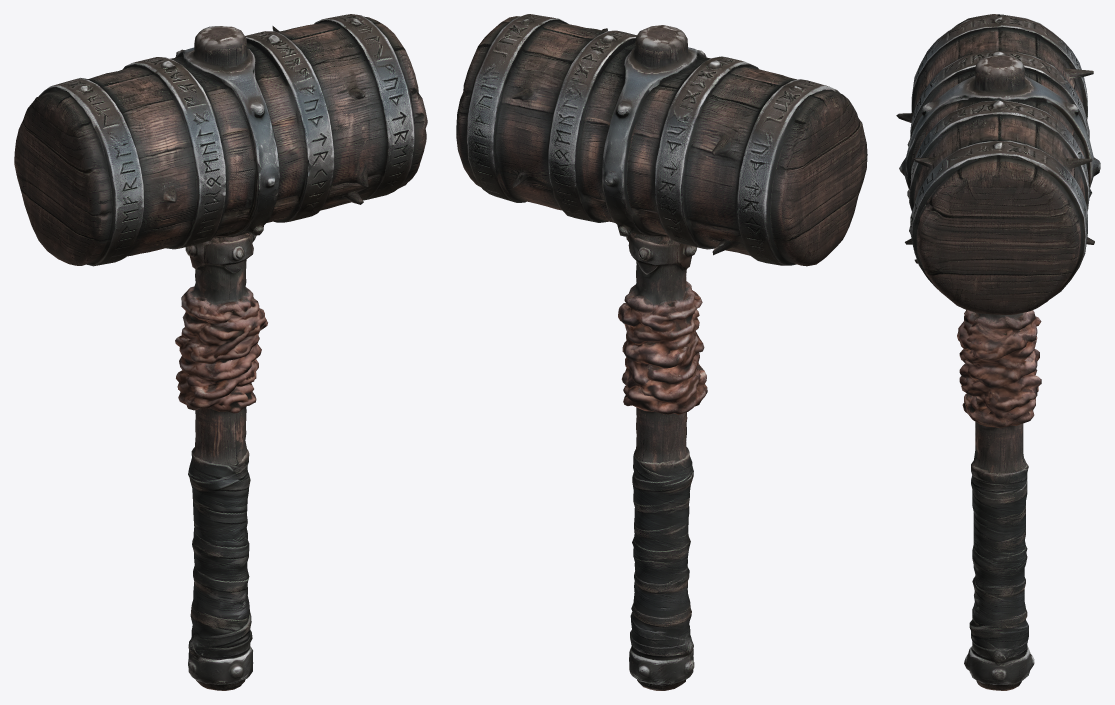
Rendered from Meshy_AI_TrollHammer_0331035215_texture.fbx.
3 renders of one model, left to right at view 1: azimuth 30°, elevation 25°; view 2: azimuth 150°, elevation 25°; view 3: azimuth 270°, elevation 25°, orthographic. The views are drawn at different scales.
Visible parts, largest first — view 1: Mesh_0.001; view 2: Mesh_0.001; view 3: Mesh_0.001.
Part boxes in pixels (x1,y1,x2,y2): Mesh_0.001: (14, 14, 427, 690); Mesh_0.001: (456, 14, 867, 690); Mesh_0.001: (896, 14, 1100, 690).
Size of the model in its own units: 272 by 500 by 149.
1 material, 1 textured.
